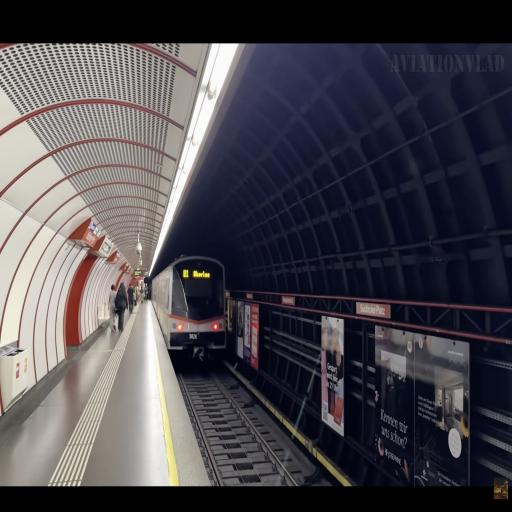V-Wagen: (150, 256, 232, 366)
